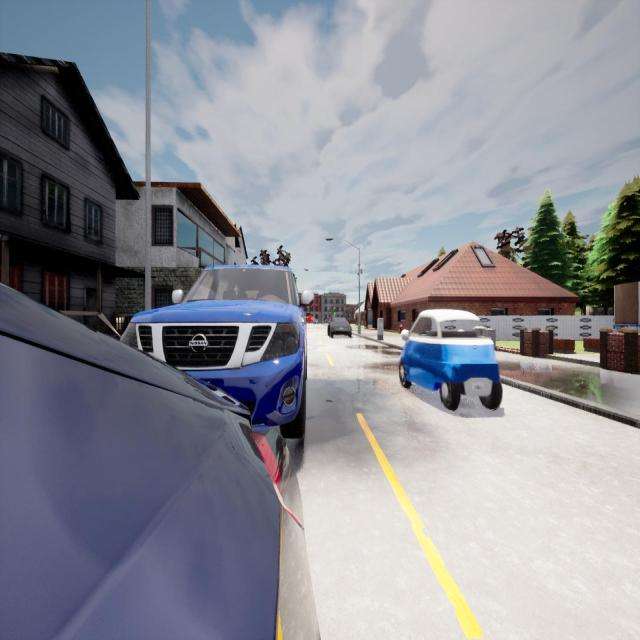Vehicle: (0, 285, 319, 638), (121, 266, 306, 438), (399, 310, 502, 410), (328, 318, 352, 338), (314, 320, 318, 324)
traffic_light: (334, 308, 336, 315)
